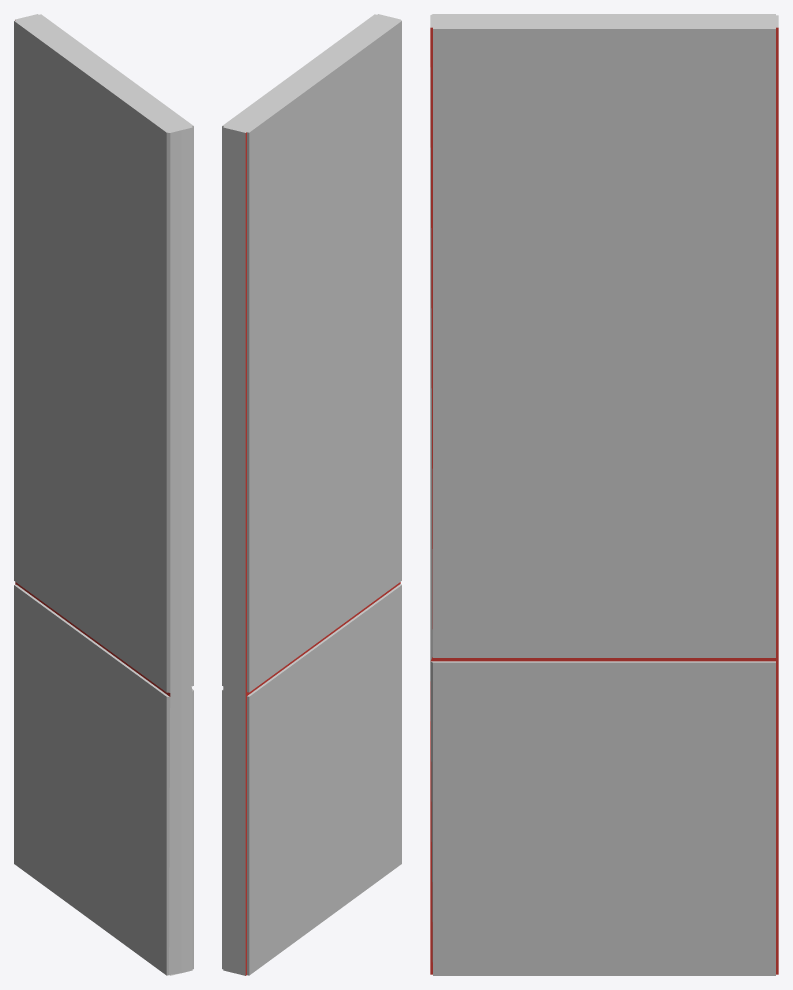
Rendered from wall1_v4_2.fbx.
3 views of the same model, side by side, from view 1: azimuth 30°, elevation 25°; view 2: azimuth 150°, elevation 25°; view 3: azimuth 270°, elevation 25° (orthographic). The views are drawn at different scales.
Visible parts, largest first — view 1: 1\3 wall; view 2: 1\3 wall; view 3: 1\3 wall.
Part boxes in pixels (box(x1,y1,x2,y2)): 1\3 wall: box(14, 14, 193, 975); 1\3 wall: box(222, 14, 401, 975); 1\3 wall: box(430, 14, 778, 975).
Size of the model in its own units: 23.64 by 700 by 233.
